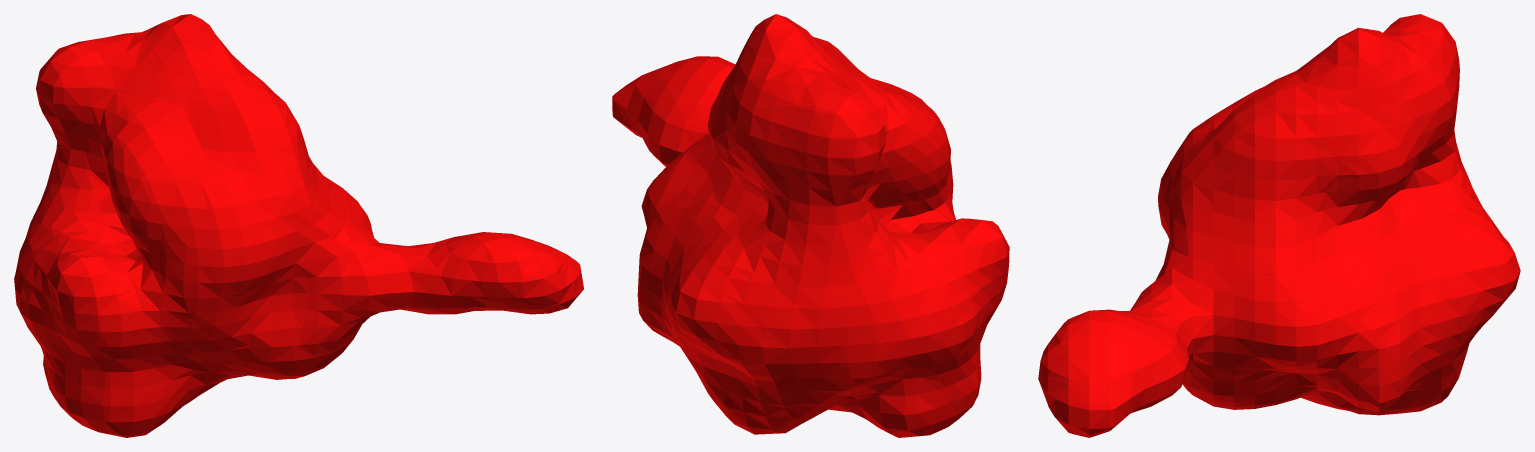
File: rimI_coarse.dae
The picture shows the model from 3 angles, left to right: view 1: azimuth 30°, elevation 25°; view 2: azimuth 150°, elevation 25°; view 3: azimuth 270°, elevation 25°; orthographic projection. The views are drawn at different scales.
Parts seen in each view (by area): view 1: rimI; view 2: rimI; view 3: rimI.
Part boxes in pixels (<box>): rimI: <box>14,14,583,437</box>; rimI: <box>612,14,1009,437</box>; rimI: <box>1038,14,1520,437</box>.
Size of the model in its own units: 59.5 by 47.59 by 52.41.
